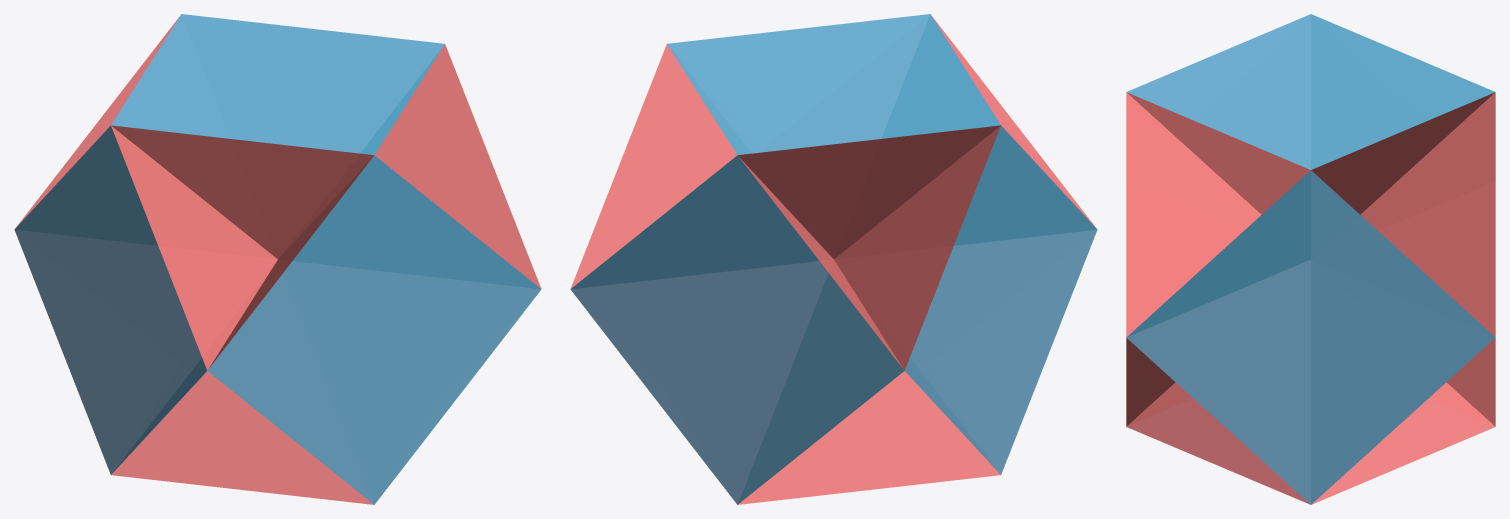
File: Cubohemioctahedron.obj
3 views of the same model, side by side, from view 1: azimuth 30°, elevation 25°; view 2: azimuth 150°, elevation 25°; view 3: azimuth 270°, elevation 25° (orthographic). The views are drawn at different scales.
Bounding box in the file's own units: 1.41 × 1.41 × 1.41.
